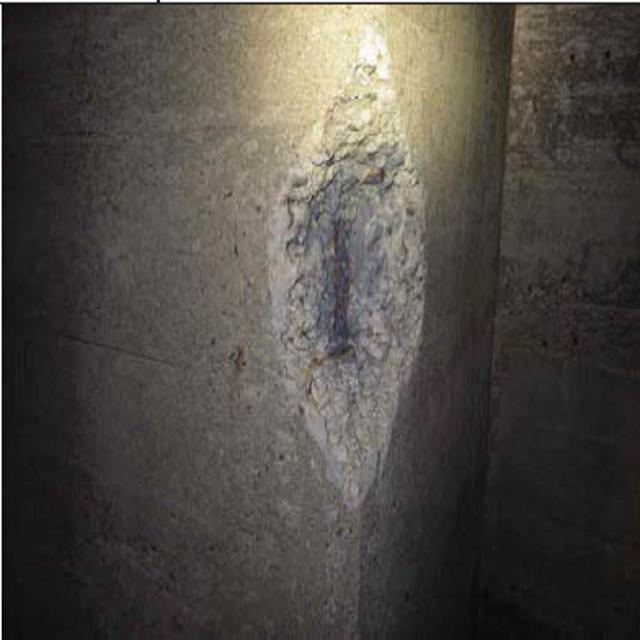spalling: (263, 67, 431, 522)
